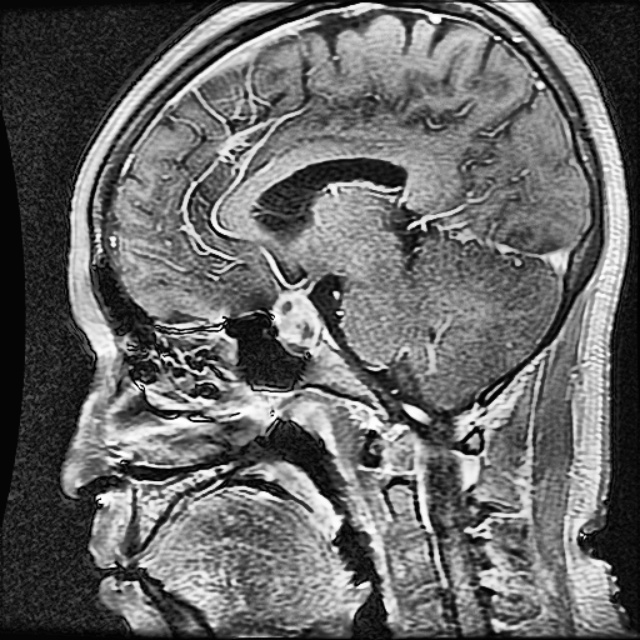Pituitary: (273, 292, 319, 347)
